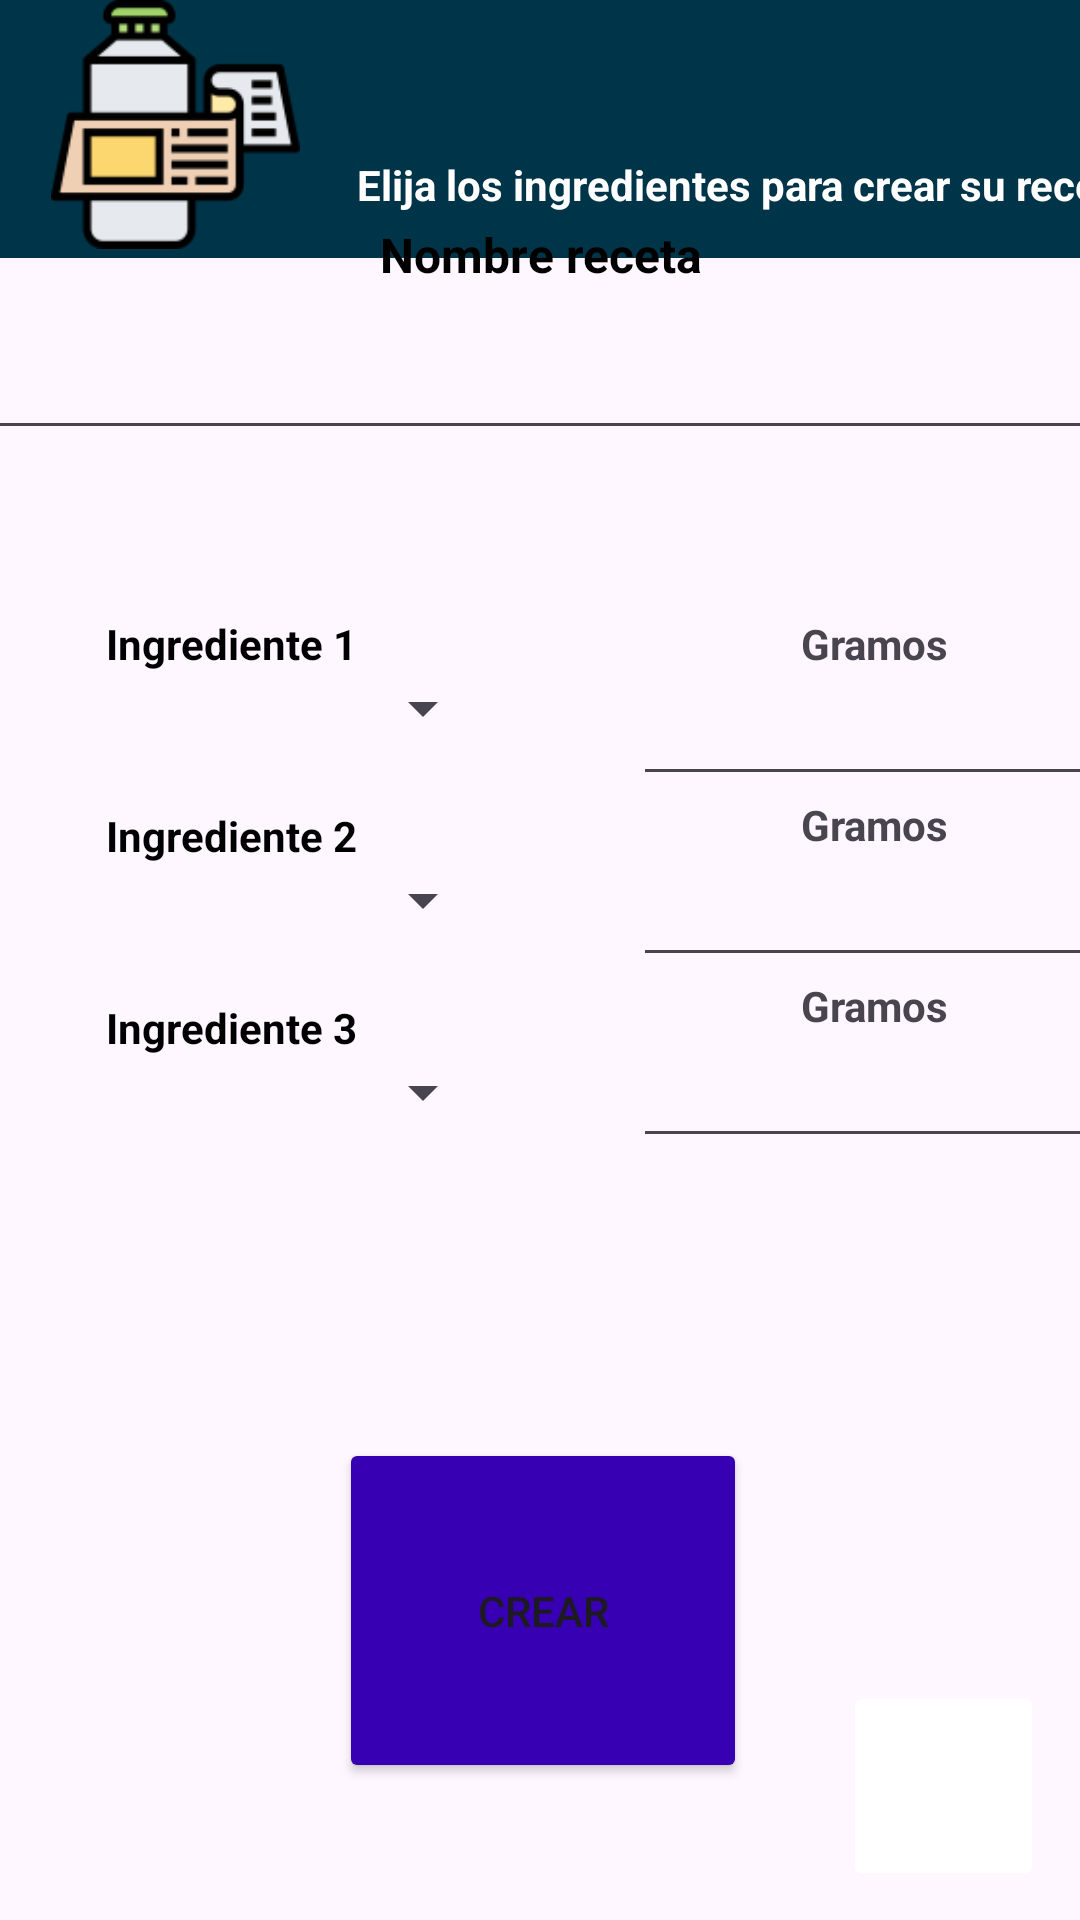

Screen size 1080 × 1920. Icon name, then its center in pixels as point (x, y):
etiqueta: point (175, 124)
